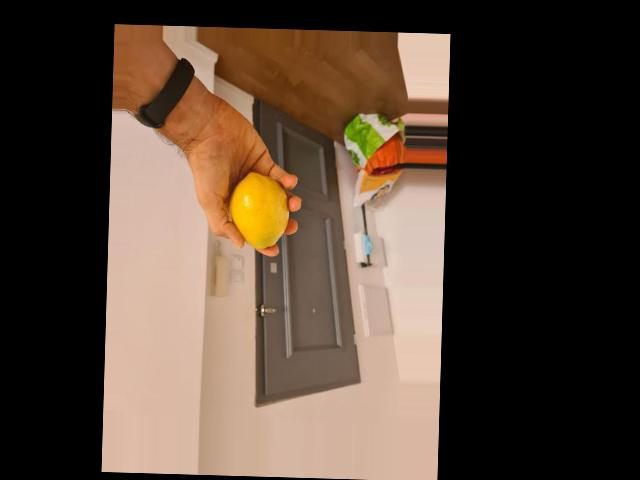lemon: (231, 170, 287, 250)
